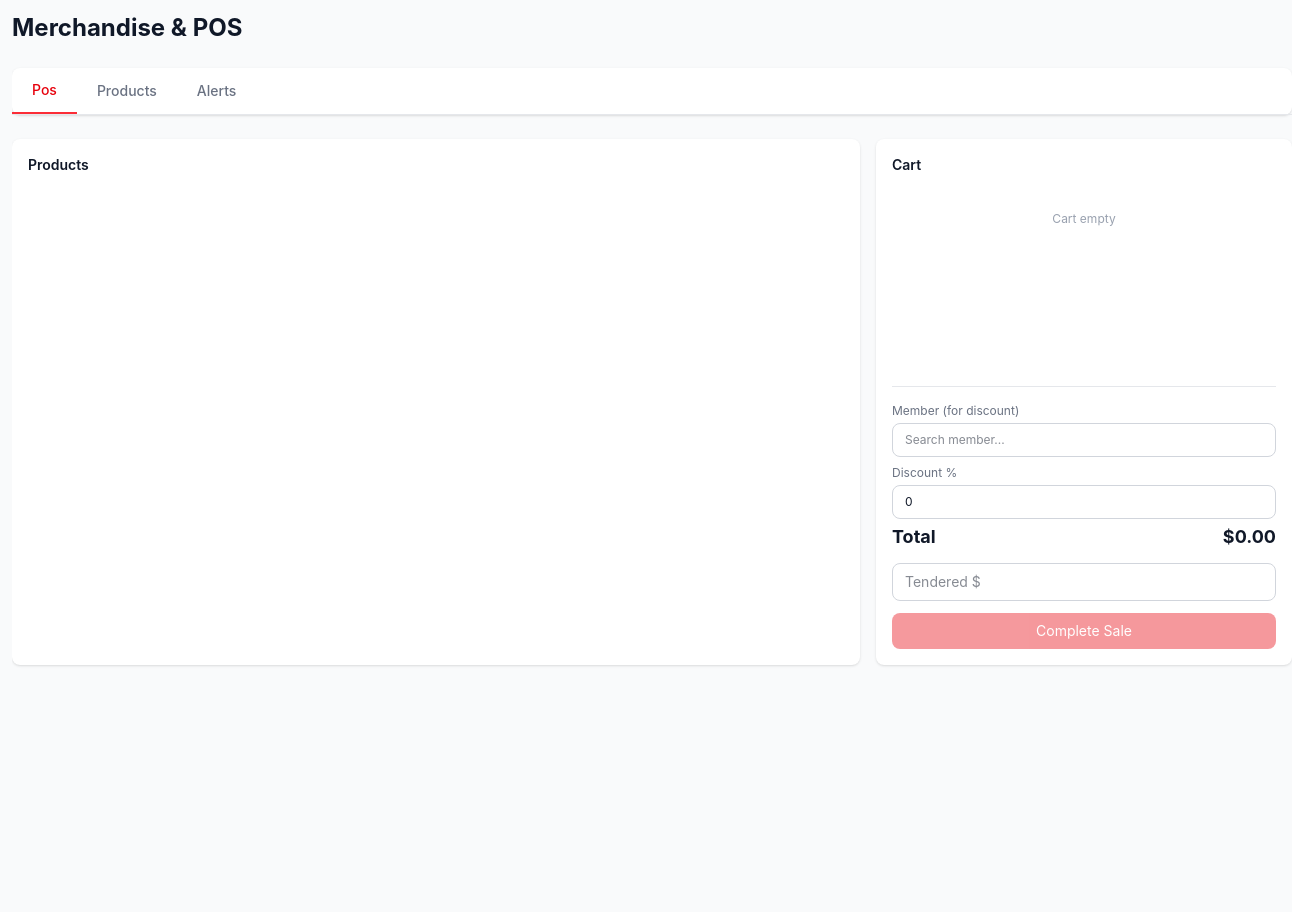
Test: POS Page › switches to alerts tab
Click the button "alerts": [217, 91] box [177,68,256,114]
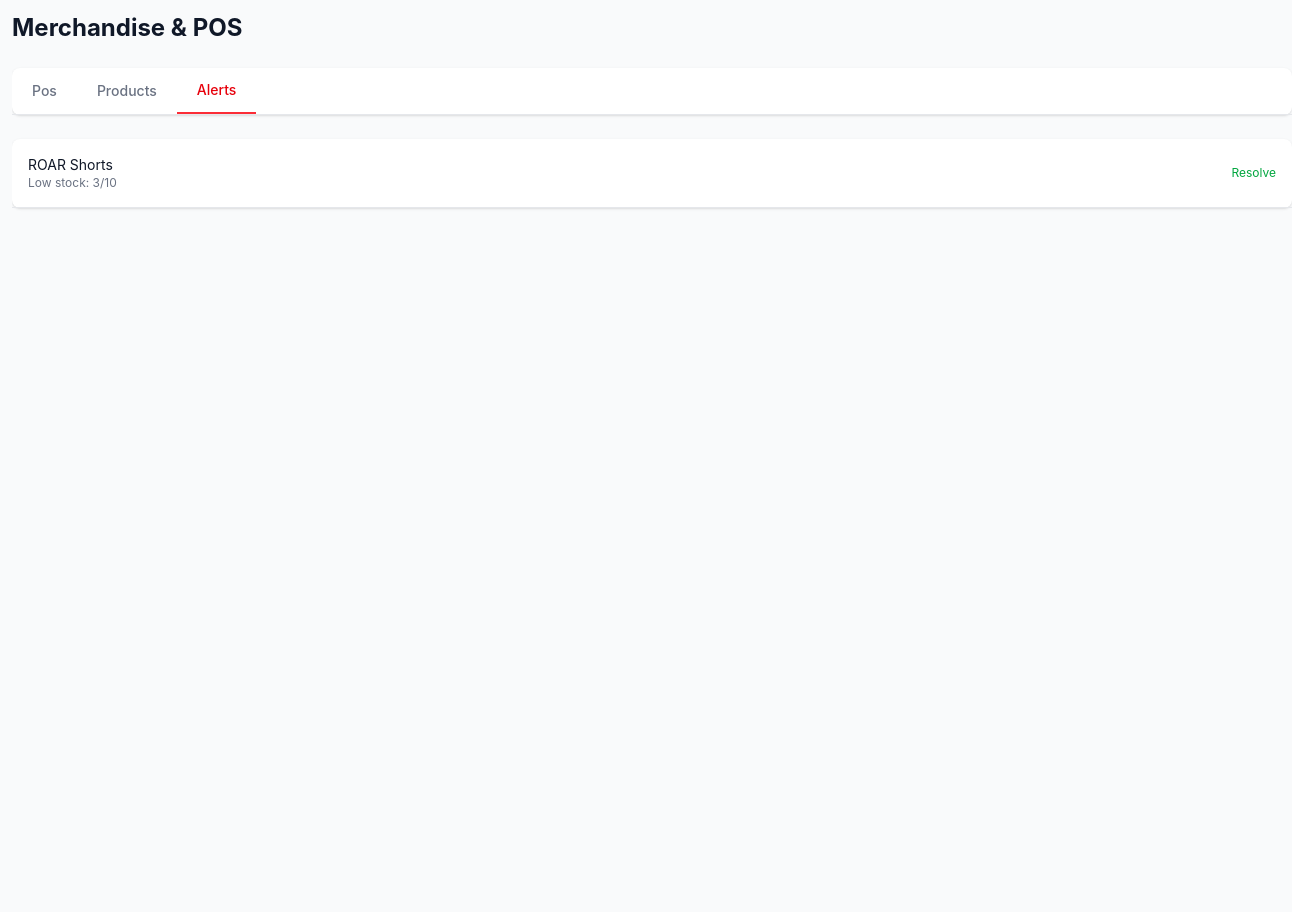
Now the text "ROAR Shorts" is shown, box [28,155,117,175]
Now the text "Low stock: 3/10" is shown, box [28,175,117,191]
